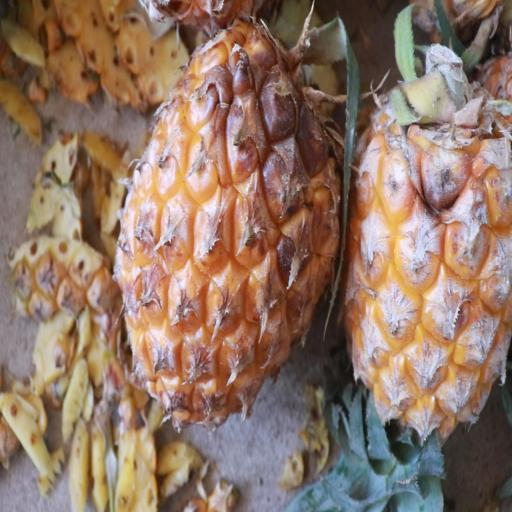Pineapple - v8 v1: (114, 12, 350, 438), (339, 25, 512, 487)
